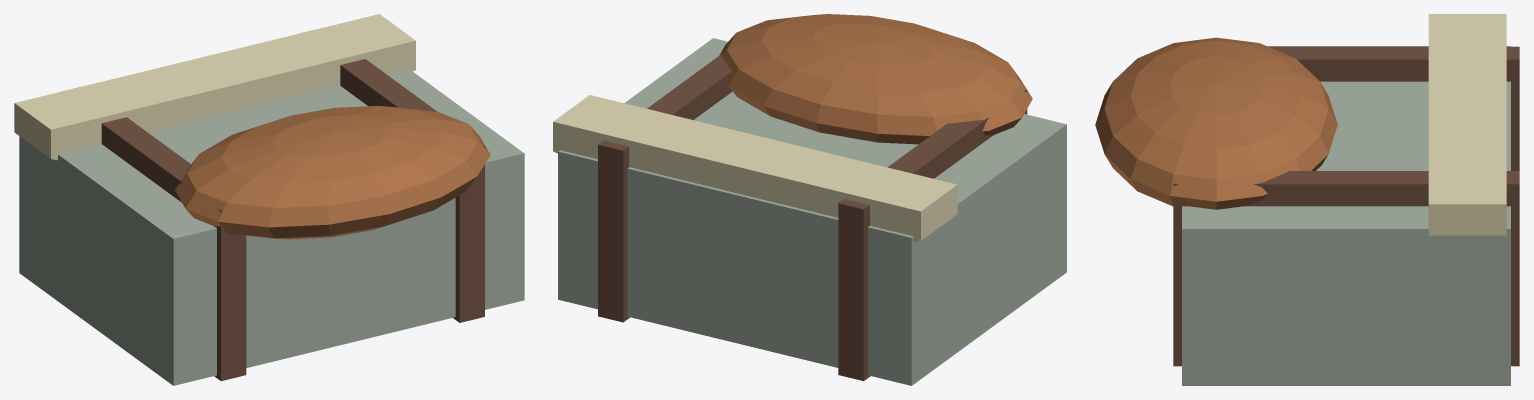
File: AE_Item_WayfarerRation.fbx
3 views of the same model, side by side, from view 1: azimuth 30°, elevation 25°; view 2: azimuth 150°, elevation 25°; view 3: azimuth 270°, elevation 25° (orthographic). The views are drawn at different scales.
Visible parts, largest first — view 1: AE_Item_WayfarerRation; view 2: AE_Item_WayfarerRation; view 3: AE_Item_WayfarerRation.
Part boxes in pixels (x1=…): AE_Item_WayfarerRation: x1=14, y1=14, x2=524, y2=385; AE_Item_WayfarerRation: x1=553, y1=14, x2=1066, y2=385; AE_Item_WayfarerRation: x1=1095, y1=14, x2=1519, y2=385.
Size of the model in its own units: 0.26 by 0.137 by 0.245.
